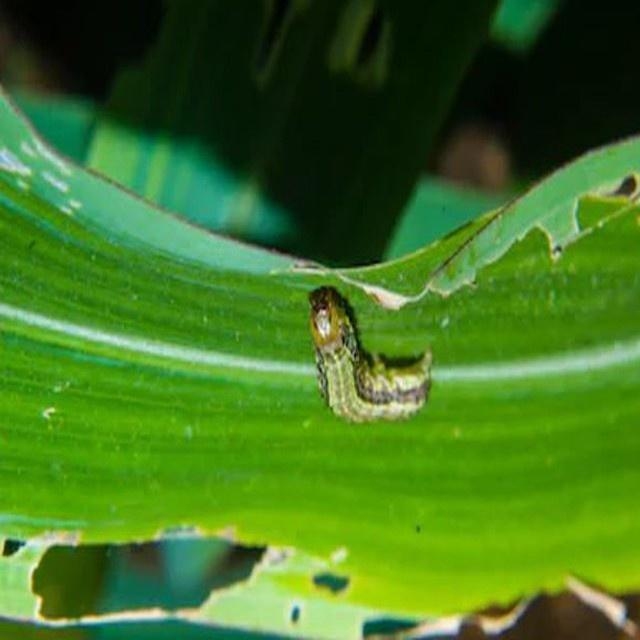gusano_cogollero: (300, 292, 433, 408)
